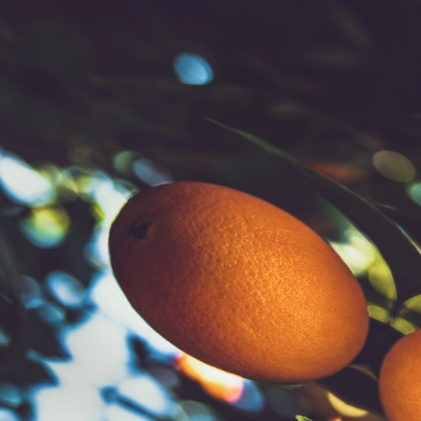orange: (50, 123, 414, 421)
